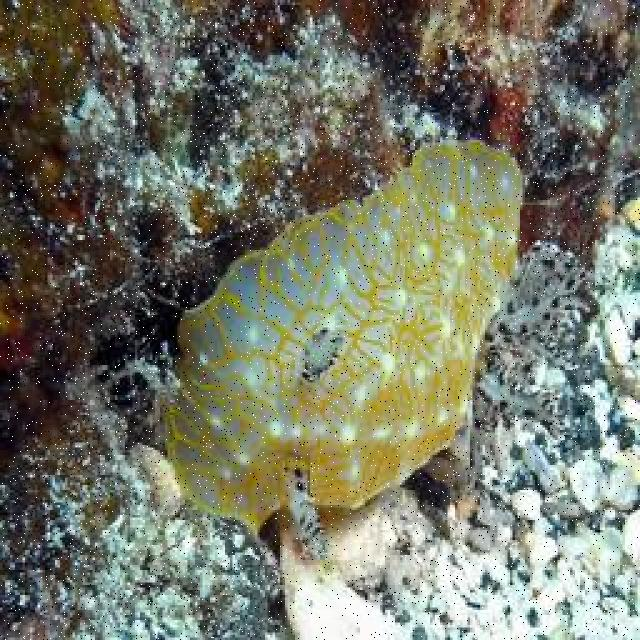fish: (482, 243, 598, 372), (474, 371, 569, 436), (282, 468, 329, 559), (302, 327, 343, 380)
reefs: (166, 138, 525, 535)
